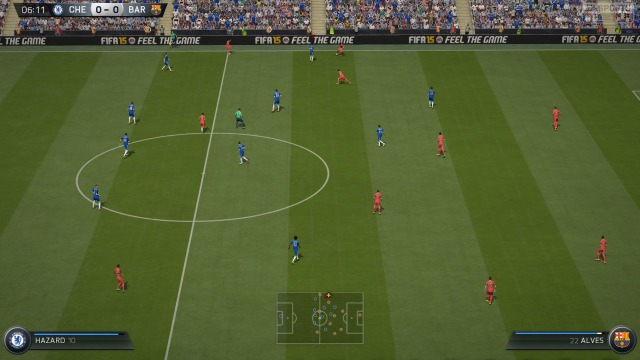player: (88, 184, 104, 212), (118, 132, 133, 161), (289, 234, 302, 266), (113, 264, 127, 293), (124, 101, 139, 128), (485, 275, 497, 307), (435, 130, 447, 160), (237, 140, 251, 165), (596, 234, 608, 263), (375, 123, 387, 148), (373, 189, 383, 216), (552, 104, 561, 133), (161, 52, 174, 72), (336, 67, 349, 85), (273, 88, 282, 113), (197, 111, 207, 133), (428, 86, 436, 111), (225, 38, 233, 56), (336, 39, 344, 54), (310, 44, 315, 62)
